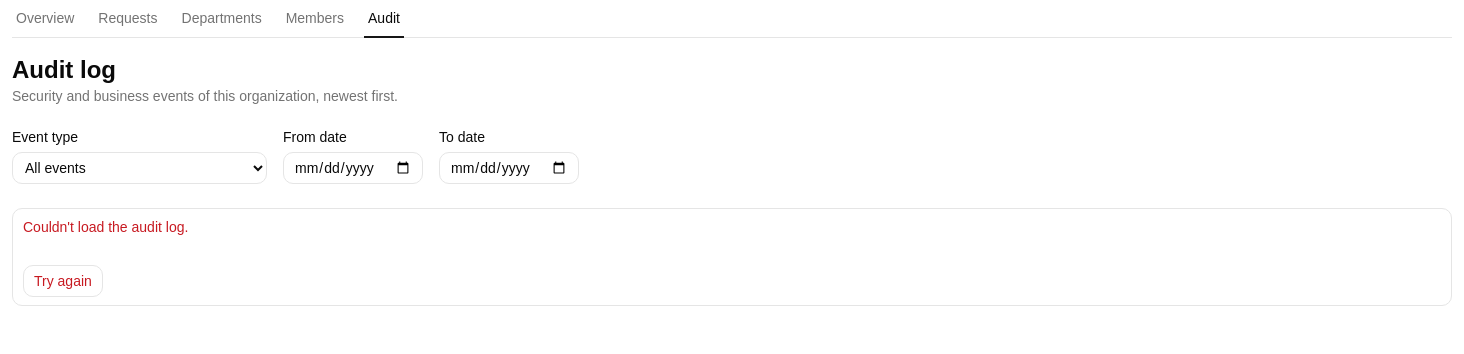
Test: AuditPage › shows an error with a retry
expect the text "Couldn't load the audit log." is shown: met, box [23, 219, 188, 235]
Click the button "Try again".
click(63, 281)  # box [23, 265, 103, 297]
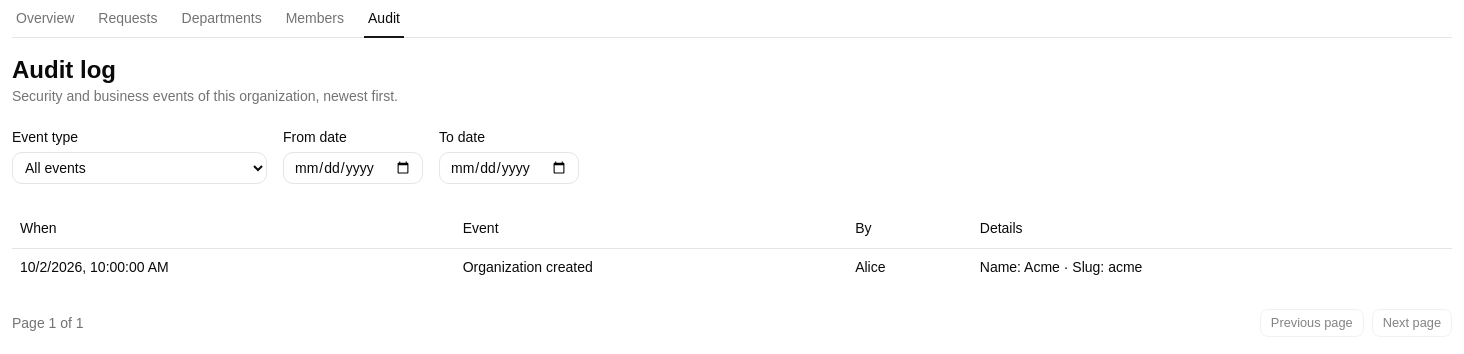
expect the text "Organization created" is shown: met, box [455, 248, 847, 284]
